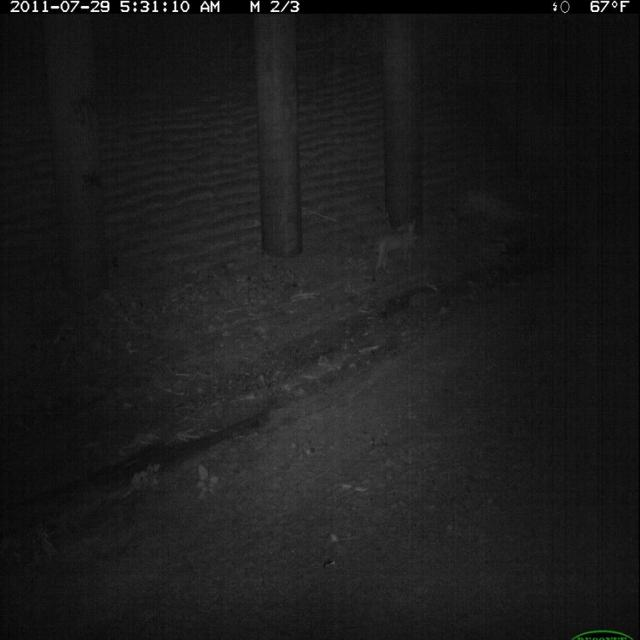bobcat: (367, 215, 425, 289)
